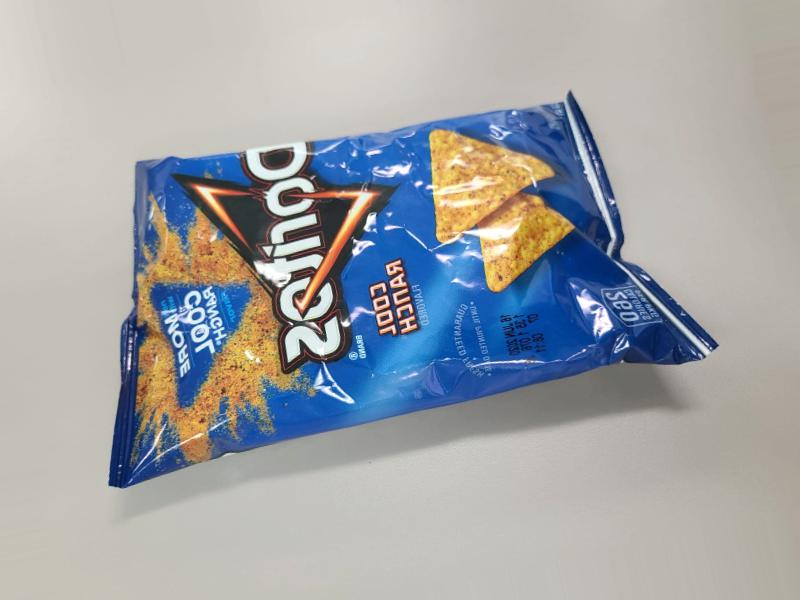doritos: (102, 92, 694, 456)
